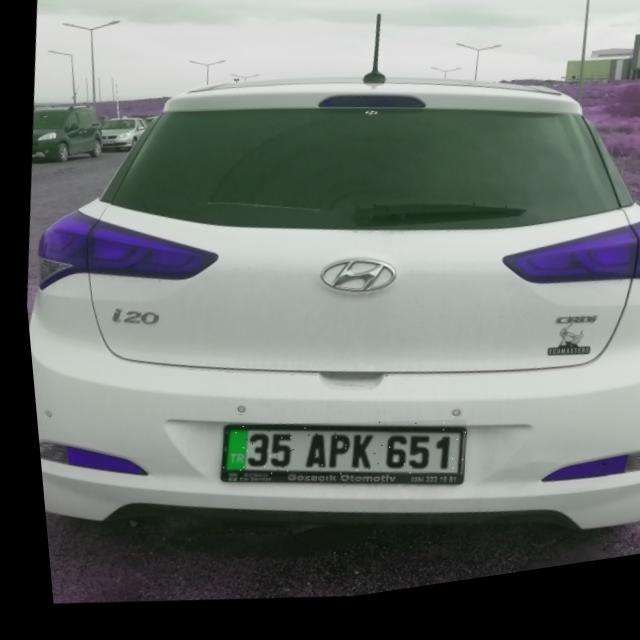license_plate: (208, 404, 460, 513)
